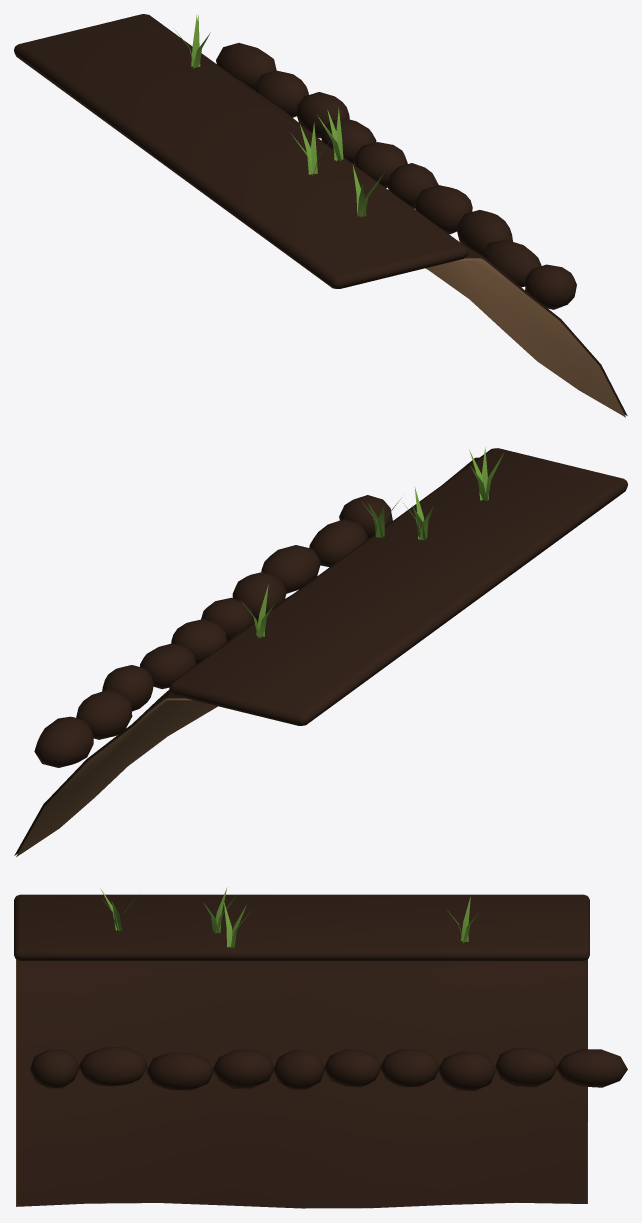
Rendered from canal_bank.glb.
3 views of the same model, one above another, from view 1: azimuth 30°, elevation 25°; view 2: azimuth 150°, elevation 25°; view 3: azimuth 270°, elevation 25° (orthographic). The views are drawn at different scales.
Parts seen in each view (by area): view 1: canal_bank_outline, canal_bank; view 2: canal_bank_outline, canal_bank; view 3: canal_bank_outline, canal_bank.
Boxes of the visible parts, left/top/right/bottom form: canal_bank_outline: left=14, top=14, right=627, bottom=415; canal_bank: left=173, top=15, right=625, bottom=417; canal_bank_outline: left=14, top=448, right=627, bottom=855; canal_bank: left=16, top=447, right=504, bottom=856; canal_bank_outline: left=14, top=894, right=627, bottom=1208; canal_bank: left=16, top=887, right=587, bottom=1208.
Size of the model in its own units: 2.15 by 1.74 by 4.3.
